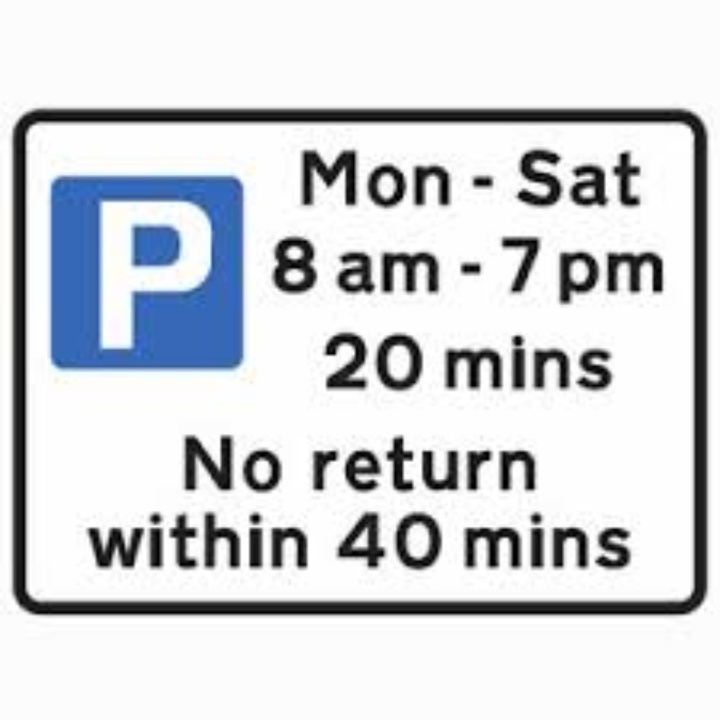parking: (81, 190, 222, 351)
